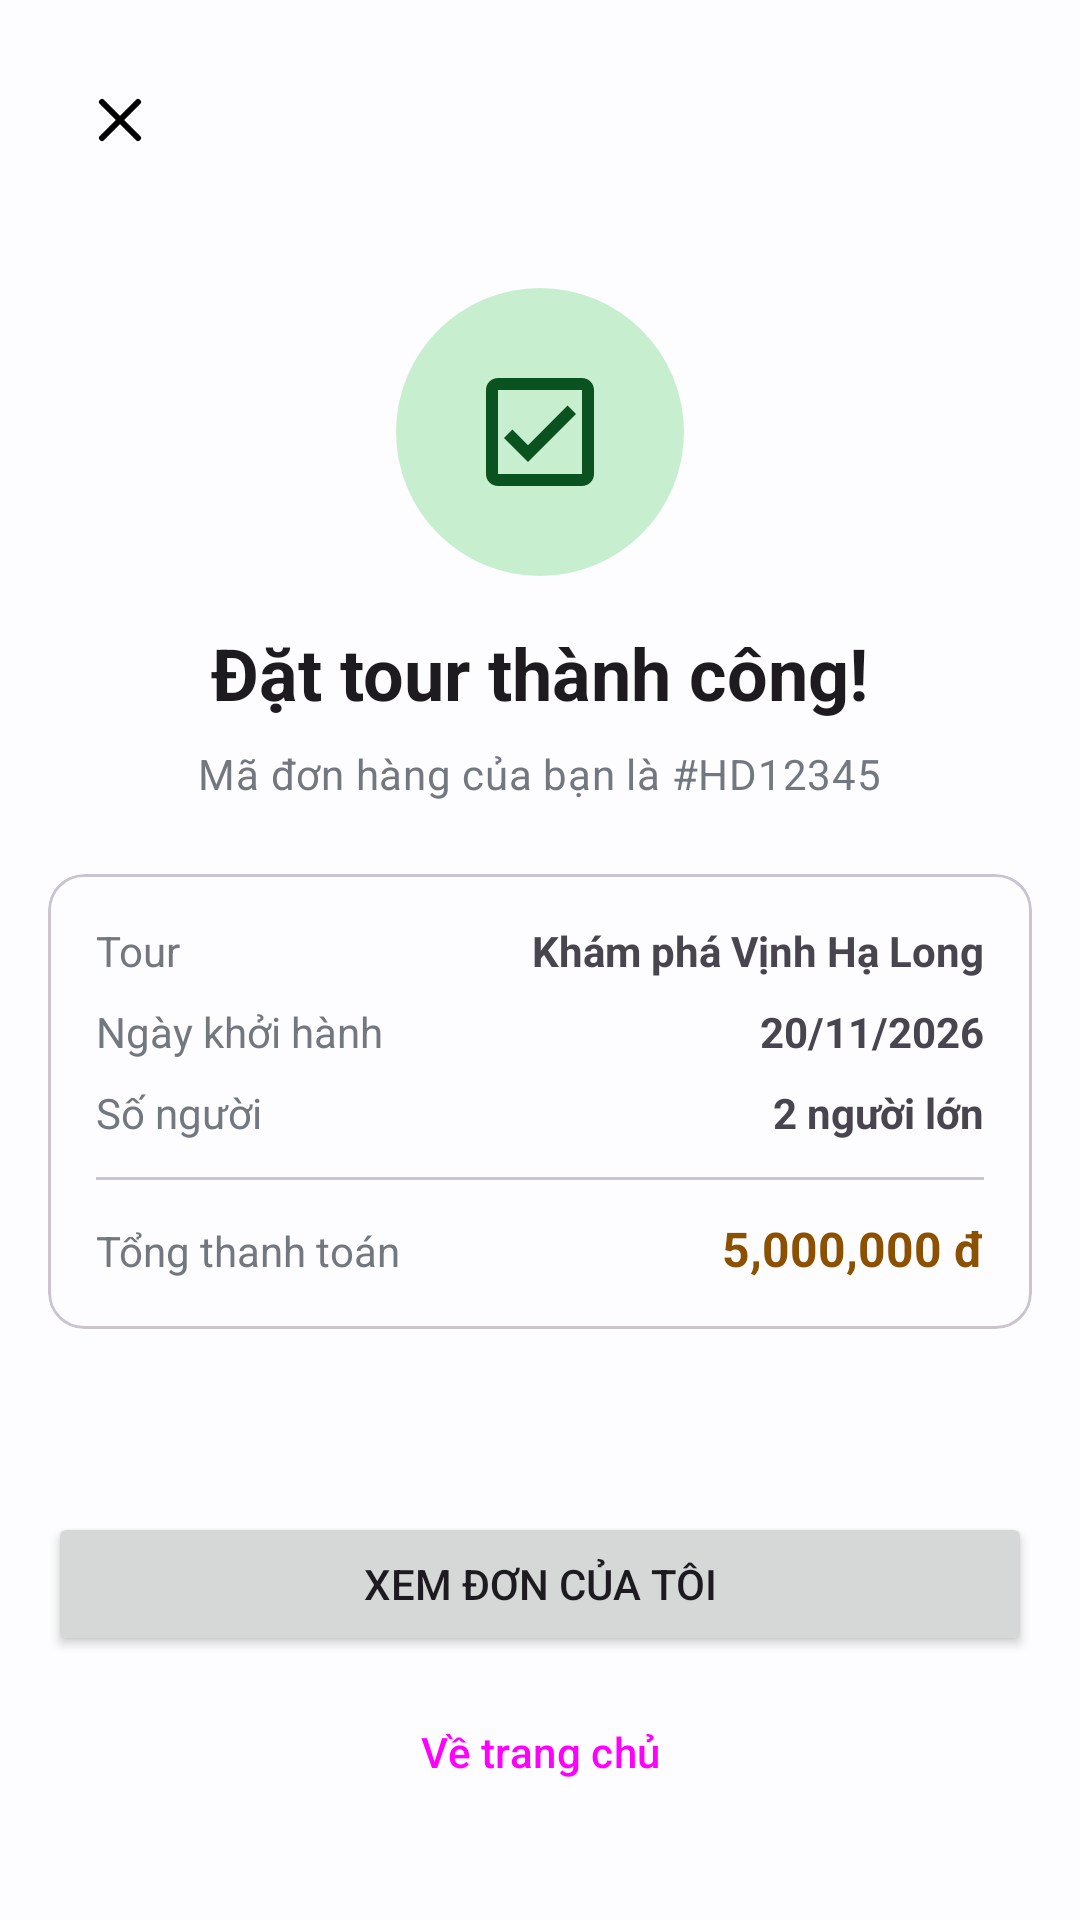

Icons on this 1080 × 1920 Android screen, each with the point to tap as point (x, y):
check: point (540, 432)
Đóng: point (120, 120)
